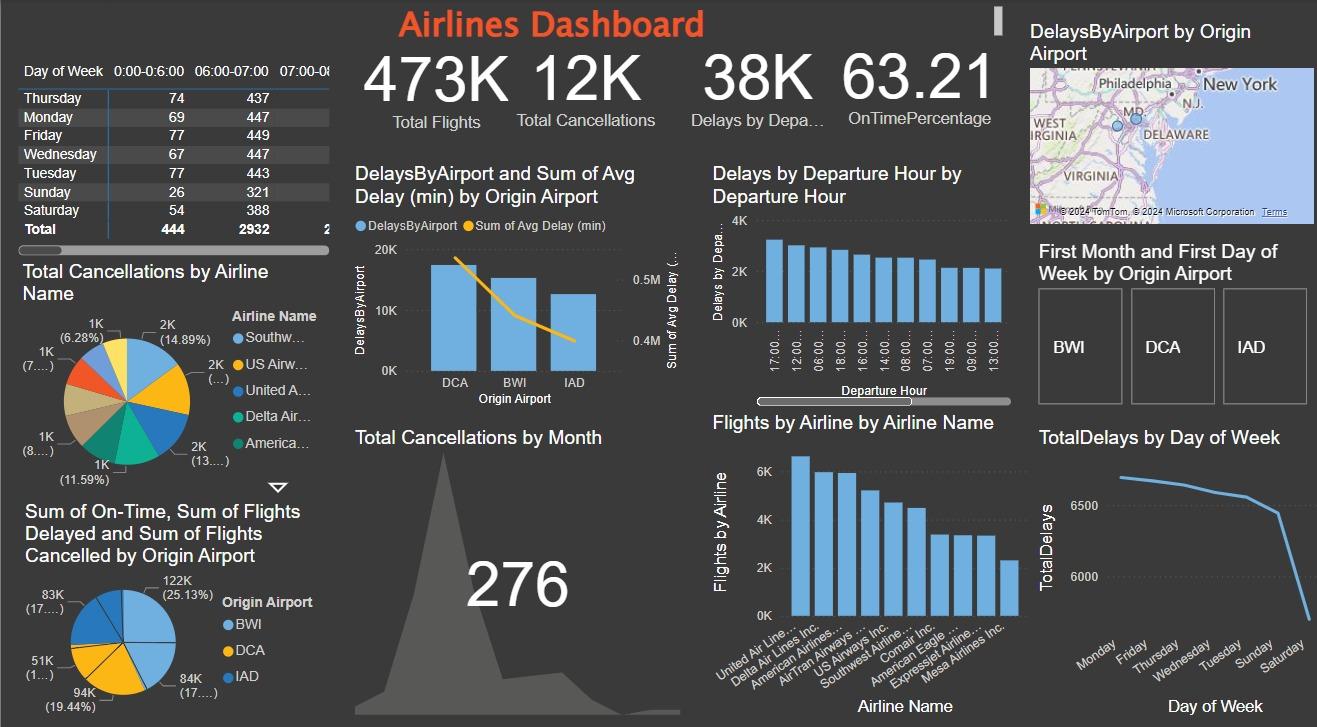

The dashboard page shown, as its layout file describes it:
{"tool":"powerbi","page":{"name":"Page 1","canvas":[1280,720],"ordinal":0},"visuals":[{"type":"card","fields":{"Values":["Sheet1.Total Flights"]},"box":[342.6,21.7,155.6,119.4],"z":0},{"type":"card","fields":{"Values":["Sheet1.Total Cancellations"]},"box":[489.8,20.5,149.6,119.4],"z":1000},{"type":"card","fields":{"Values":["Sheet1.OnTimePercentage"]},"box":[802.3,18.1,168.9,120.6],"z":2000},{"type":"card","fields":{"Values":["Sheet1.Delays by Departure Hour"]},"box":[658.7,19.3,143.6,120.6],"z":3000},{"type":"clusteredBarChart","fields":{"Category":["Sheet1.Airline Name"],"Y":["Sheet1.Flights by Airline"]},"box":[681.6,398.1,314.9,298],"z":4000},{"type":"clusteredBarChart","fields":{"Category":["Sheet1.Departure Hour"],"Y":["Sheet1.Delays by Departure Hour"]},"box":[681.1,157.7,298.4,239.7],"z":5000},{"type":"pivotTable","fields":{"Rows":["Sheet1.Day of Week"],"Columns":["Sheet1.Departure Hour"],"Values":["Sheet1.Delays by Departure Hour"]},"box":[12.1,55.5,310.1,196.6],"z":6000},{"type":"pieChart","fields":{"Y":["Sum(Sheet1.On-Time)","Sum(Sheet1.Flights Delayed)","Sum(Sheet1.Flights Cancelled)"],"Category":["Sheet1.Origin Airport"]},"box":[18.1,483.8,299.2,212.3],"z":7000},{"type":"lineClusteredColumnComboChart","fields":{"Y":["Sheet1.DelaysByAirport"],"Y2":["Sum(Sheet1.Avg Delay (min))"],"Category":["Sheet1.Origin Airport"]},"box":[336.3,157.7,324.1,239.7],"z":8000},{"type":"lineChart","fields":{"Y":["Sheet1.TotalDelays"],"Category":["Sheet1.Day of Week"]},"box":[996.5,412.6,283.5,283.5],"z":9000},{"type":"pieChart","fields":{"Category":["Sheet1.Airline Name"],"Y":["Sheet1.Total Cancellations"]},"box":[15.7,252.1,299.2,231.6],"z":10000},{"type":"map","fields":{"Category":["Sheet1.Origin Airport"],"Size":["Sheet1.DelaysByAirport"]},"box":[988.1,20.5,283.5,201.5],"z":11000},{"type":"advancedSlicerVisual","fields":{"Values":["Sheet1.Origin Airport"]},"box":[996.5,232.8,271.4,164.1],"z":12000},{"type":"kpi","fields":{"Indicator":["Sheet1.Total Cancellations"],"TrendLine":["Sheet1.Month"]},"box":[336.6,412.6,324.5,283.5],"z":13000},{"type":"textbox","box":[100.1,0,871.1,47.1],"z":14000}]}

Visuals, with their boxes in screenshot pixels (x1, y1, x2, y2), scaled from the page's 1280x720 canvas onto the 1317x727 screenshot:
card - Sheet1.Total Flights: region(353, 22, 513, 142)
card - Sheet1.Total Cancellations: region(504, 21, 658, 141)
card - Sheet1.OnTimePercentage: region(825, 18, 999, 140)
card - Sheet1.Delays by Departure Hour: region(678, 19, 825, 141)
clusteredBarChart - Sheet1.Airline Name x Sheet1.Flights by Airline: region(701, 402, 1025, 703)
clusteredBarChart - Sheet1.Departure Hour x Sheet1.Delays by Departure Hour: region(701, 159, 1008, 401)
pivotTable - Sheet1.Day of Week x Sheet1.Departure Hour: region(12, 56, 332, 255)
pieChart - Sum(Sheet1.On-Time) x Sum(Sheet1.Flights Delayed): region(19, 489, 326, 703)
lineClusteredColumnComboChart - Sheet1.DelaysByAirport x Sum(Sheet1.Avg Delay (min)): region(346, 159, 679, 401)
lineChart - Sheet1.TotalDelays x Sheet1.Day of Week: region(1025, 417, 1316, 703)
pieChart - Sheet1.Airline Name x Sheet1.Total Cancellations: region(16, 255, 324, 488)
map - Sheet1.Origin Airport x Sheet1.DelaysByAirport: region(1017, 21, 1308, 224)
advancedSlicerVisual - Sheet1.Origin Airport: region(1025, 235, 1305, 401)
kpi - Sheet1.Total Cancellations x Sheet1.Month: region(346, 417, 680, 703)
textbox: region(103, 0, 999, 48)
